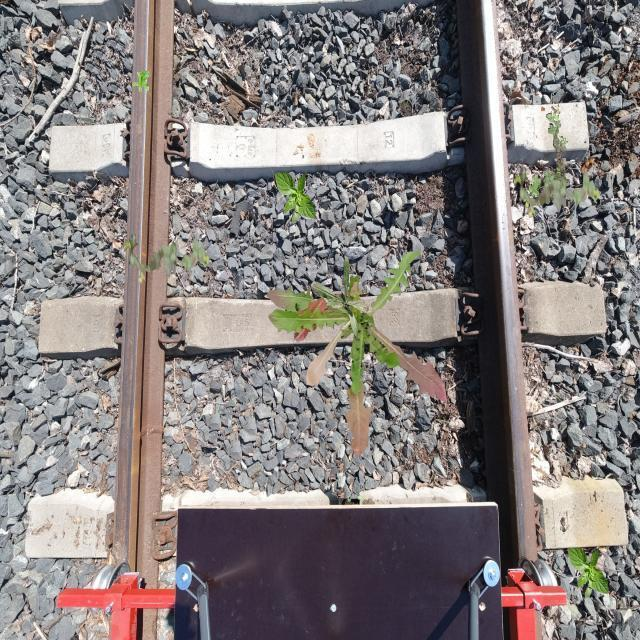Plant: (267, 250, 447, 458), (311, 258, 375, 342), (522, 104, 570, 208), (123, 232, 210, 284), (513, 167, 600, 218), (274, 170, 316, 224), (567, 545, 608, 598), (132, 69, 150, 93)
